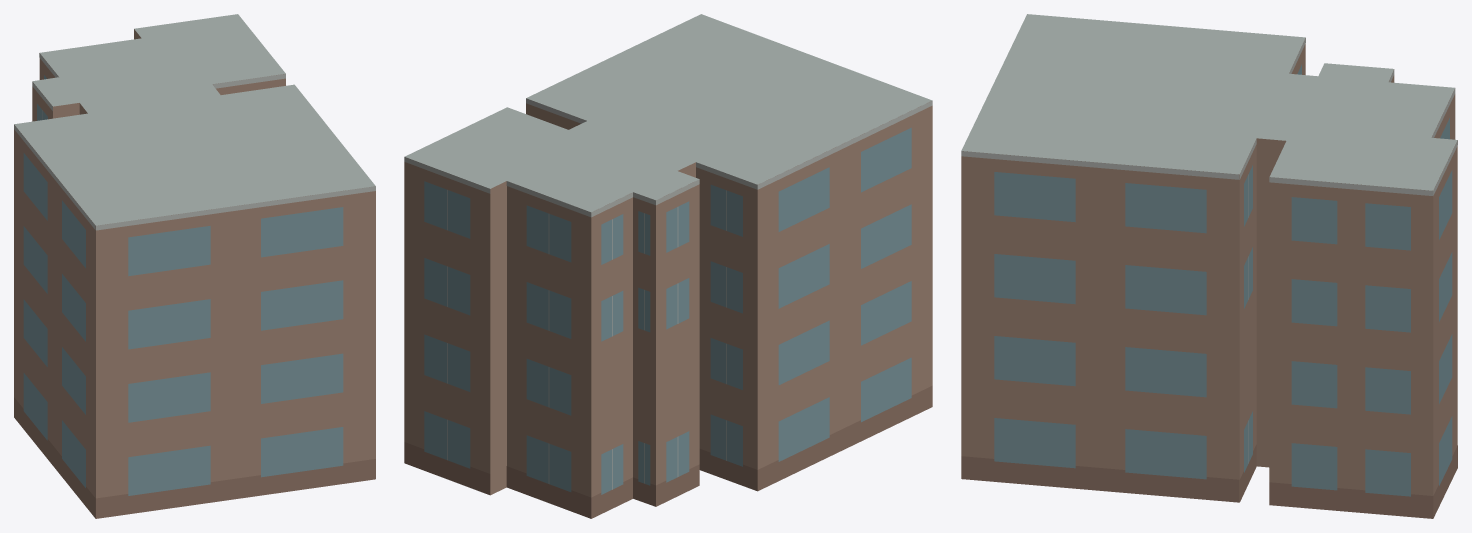
Rendered from survey-upis-32959935.glb.
3 renders of one model, left to right at view 1: azimuth 30°, elevation 25°; view 2: azimuth 150°, elevation 25°; view 3: azimuth 270°, elevation 25°, orthographic. The views are drawn at different scales.
Visible parts, largest first — view 1: survey-upis-32959935.tmp; view 2: survey-upis-32959935.tmp; view 3: survey-upis-32959935.tmp.
Part boxes in pixels (<box>): survey-upis-32959935.tmp: <box>14,14,375,518</box>; survey-upis-32959935.tmp: <box>404,14,932,518</box>; survey-upis-32959935.tmp: <box>961,14,1457,518</box>.
Size of the model in its own units: 17.23 by 14.9 by 20.45.
